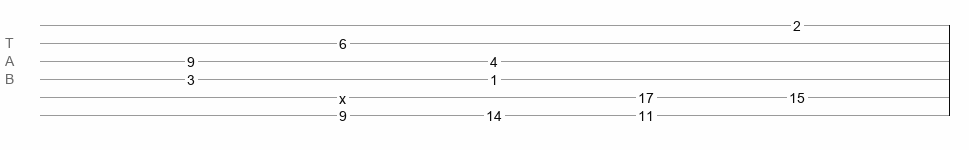1: (490, 72, 498, 82)
11: (638, 108, 654, 118)
14: (486, 108, 502, 118)
15: (789, 90, 805, 100)
17: (638, 90, 654, 100)
2: (793, 18, 801, 28)
3: (187, 72, 195, 82)
4: (490, 54, 498, 64)
6: (339, 36, 347, 46)
9: (187, 54, 195, 64), (339, 108, 347, 118)
x: (339, 91, 346, 99)
